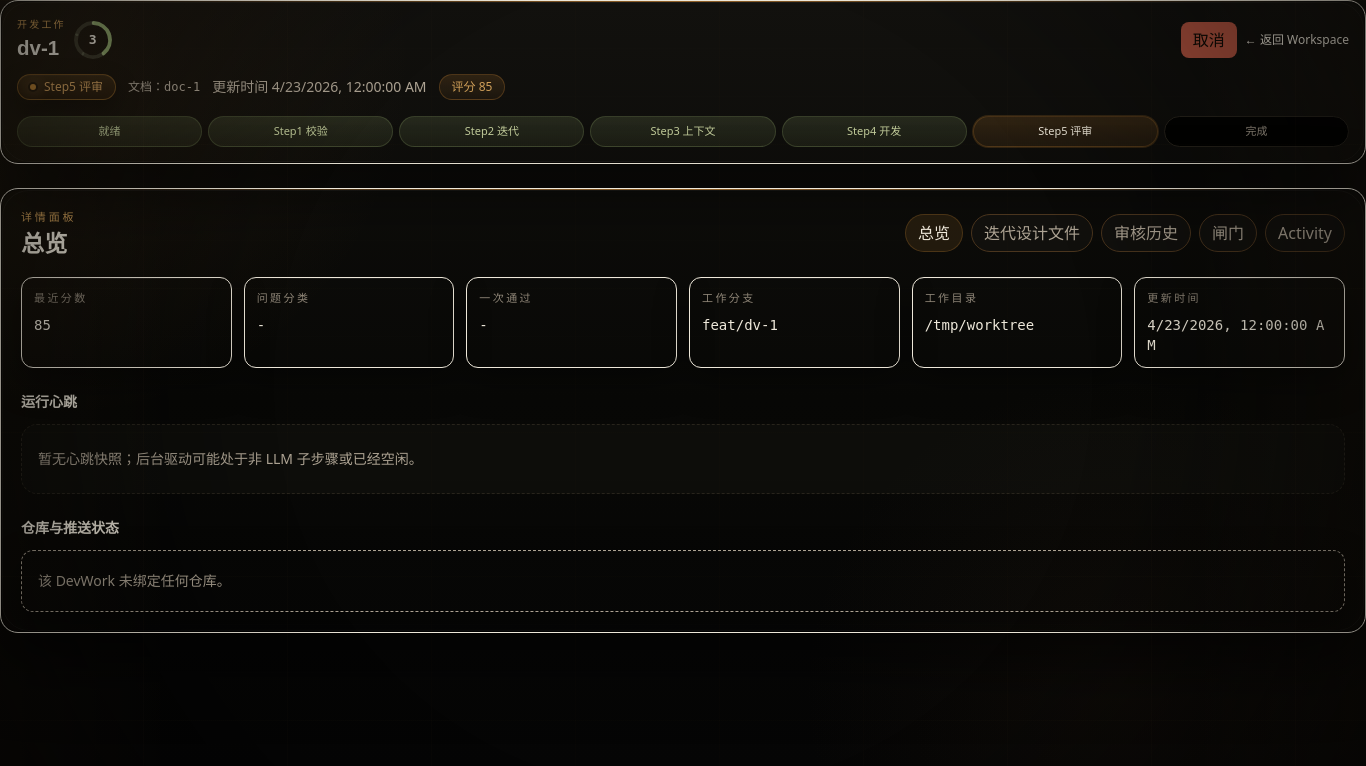
Test: DevWorkPage › renders iteration plans as a structured checklist
What coordinates should you click on to do the following:
click the tab "迭代设计文件"
I would click on:
 (1032, 233)
Its box is x1=971 y1=214 x2=1093 y2=252.
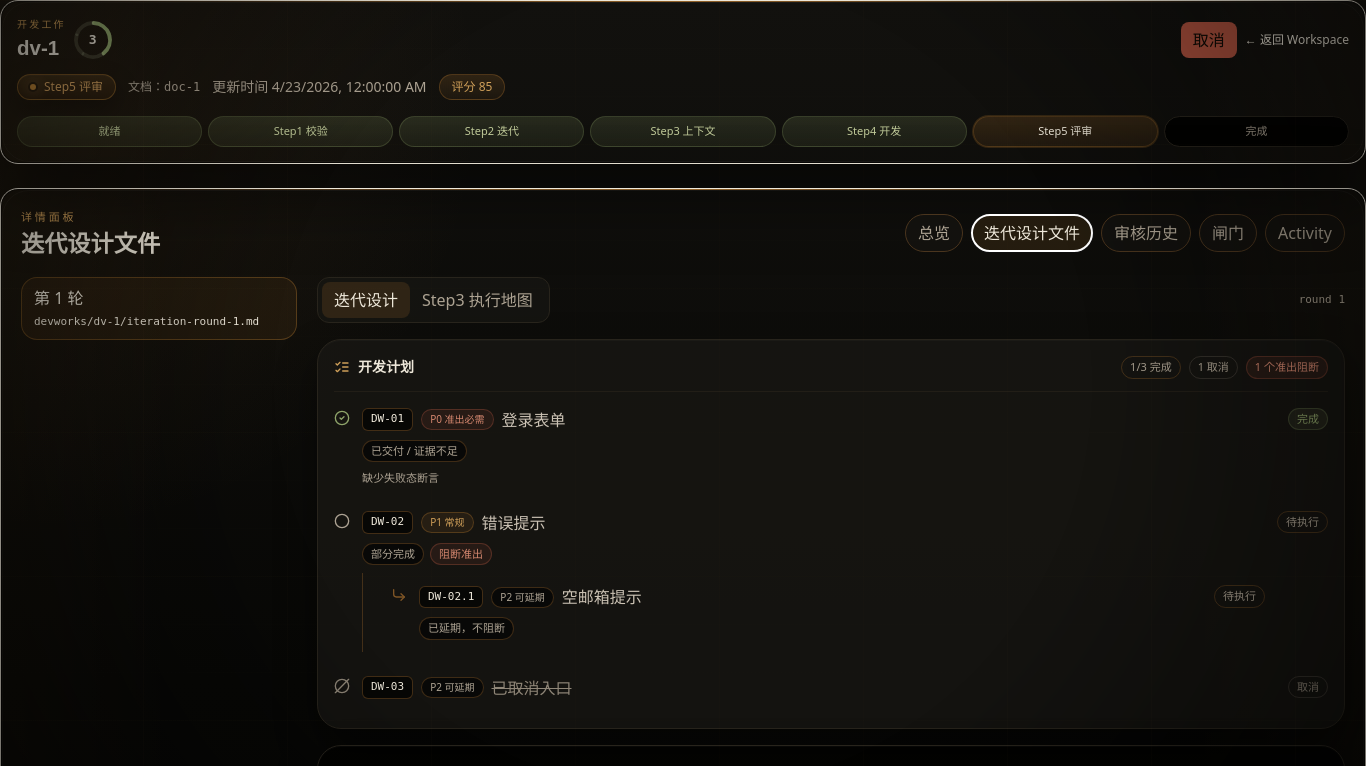
Now the text "1/3 完成" is shown, box x1=1121 y1=356 x2=1181 y2=378
Now the text "P0 准出必需" is shown, box x1=421 y1=409 x2=494 y2=430
Now the text "1 个准出阻断" is shown, box x1=1246 y1=356 x2=1328 y2=378
